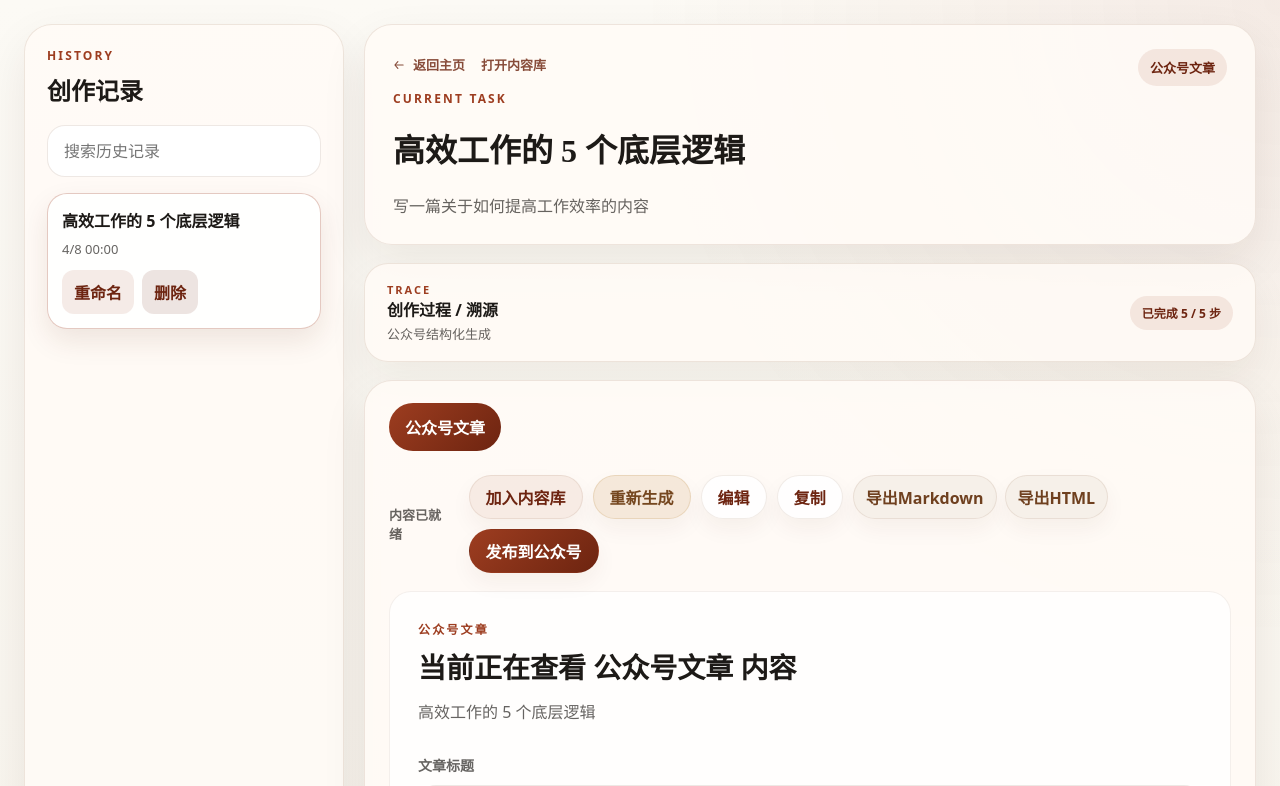
Scenario: WorkspaceShell › publishes wechat content through the publish modal
Click the button "发布到公众号": x=534, y=551 [469,529,599,573]
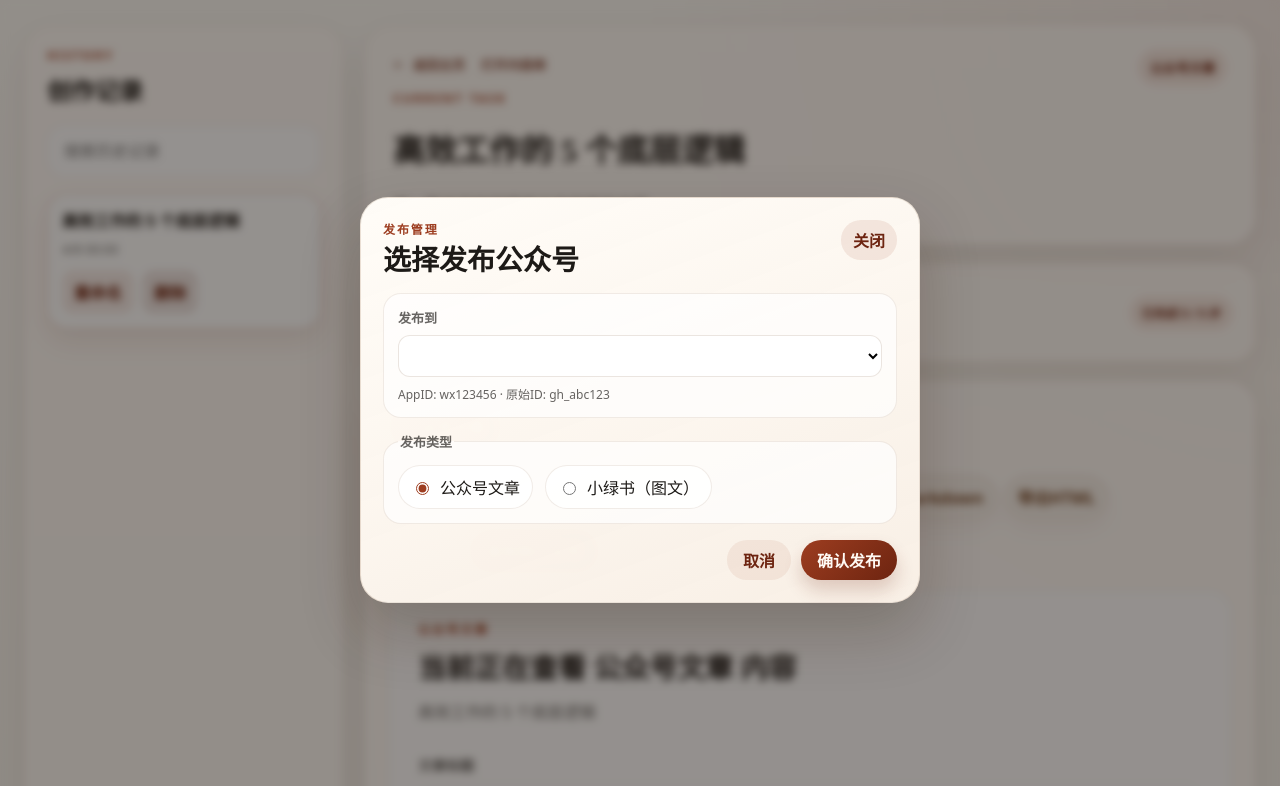
Result: the heading "选择发布公众号" is shown at [383,246,579,277]
Click the button "确认发布": x=849, y=560 [801,540,897,580]
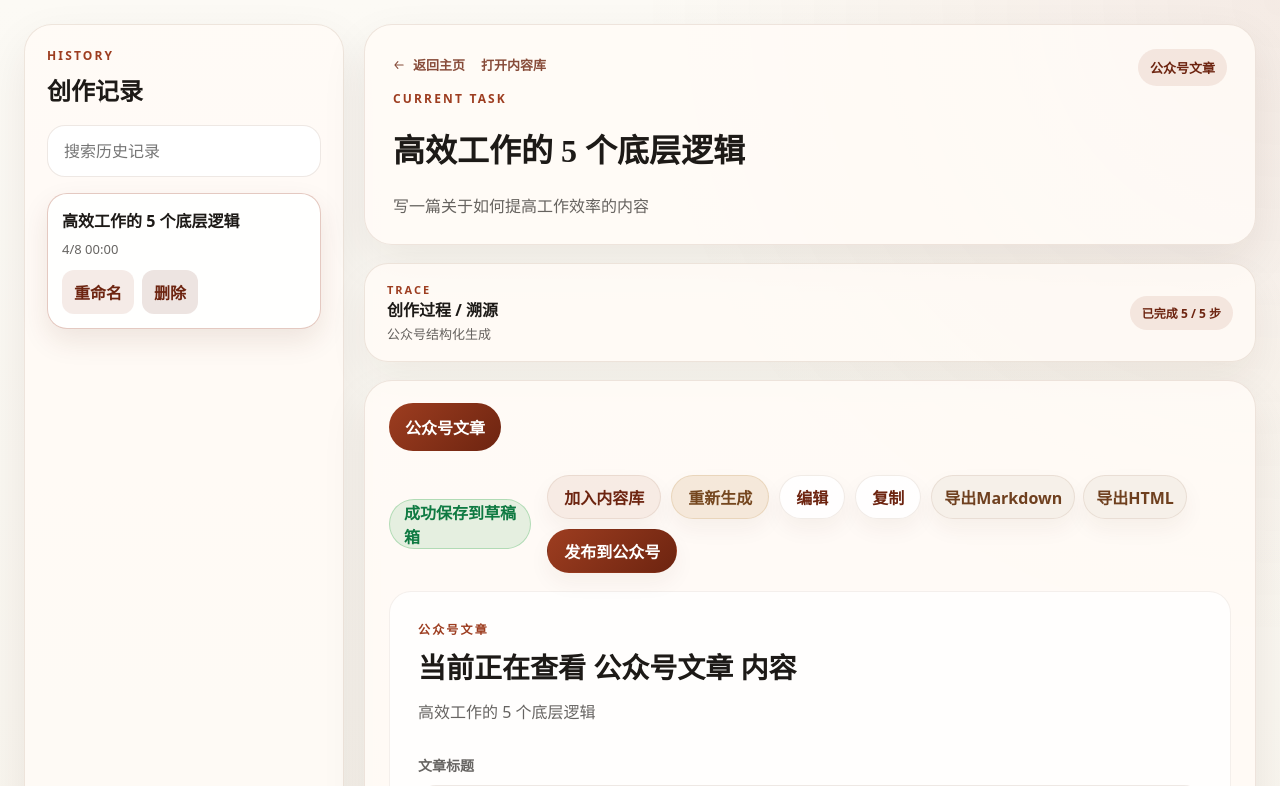
Result: the text "成功保存到草稿箱" is shown at [389,499,531,549]
